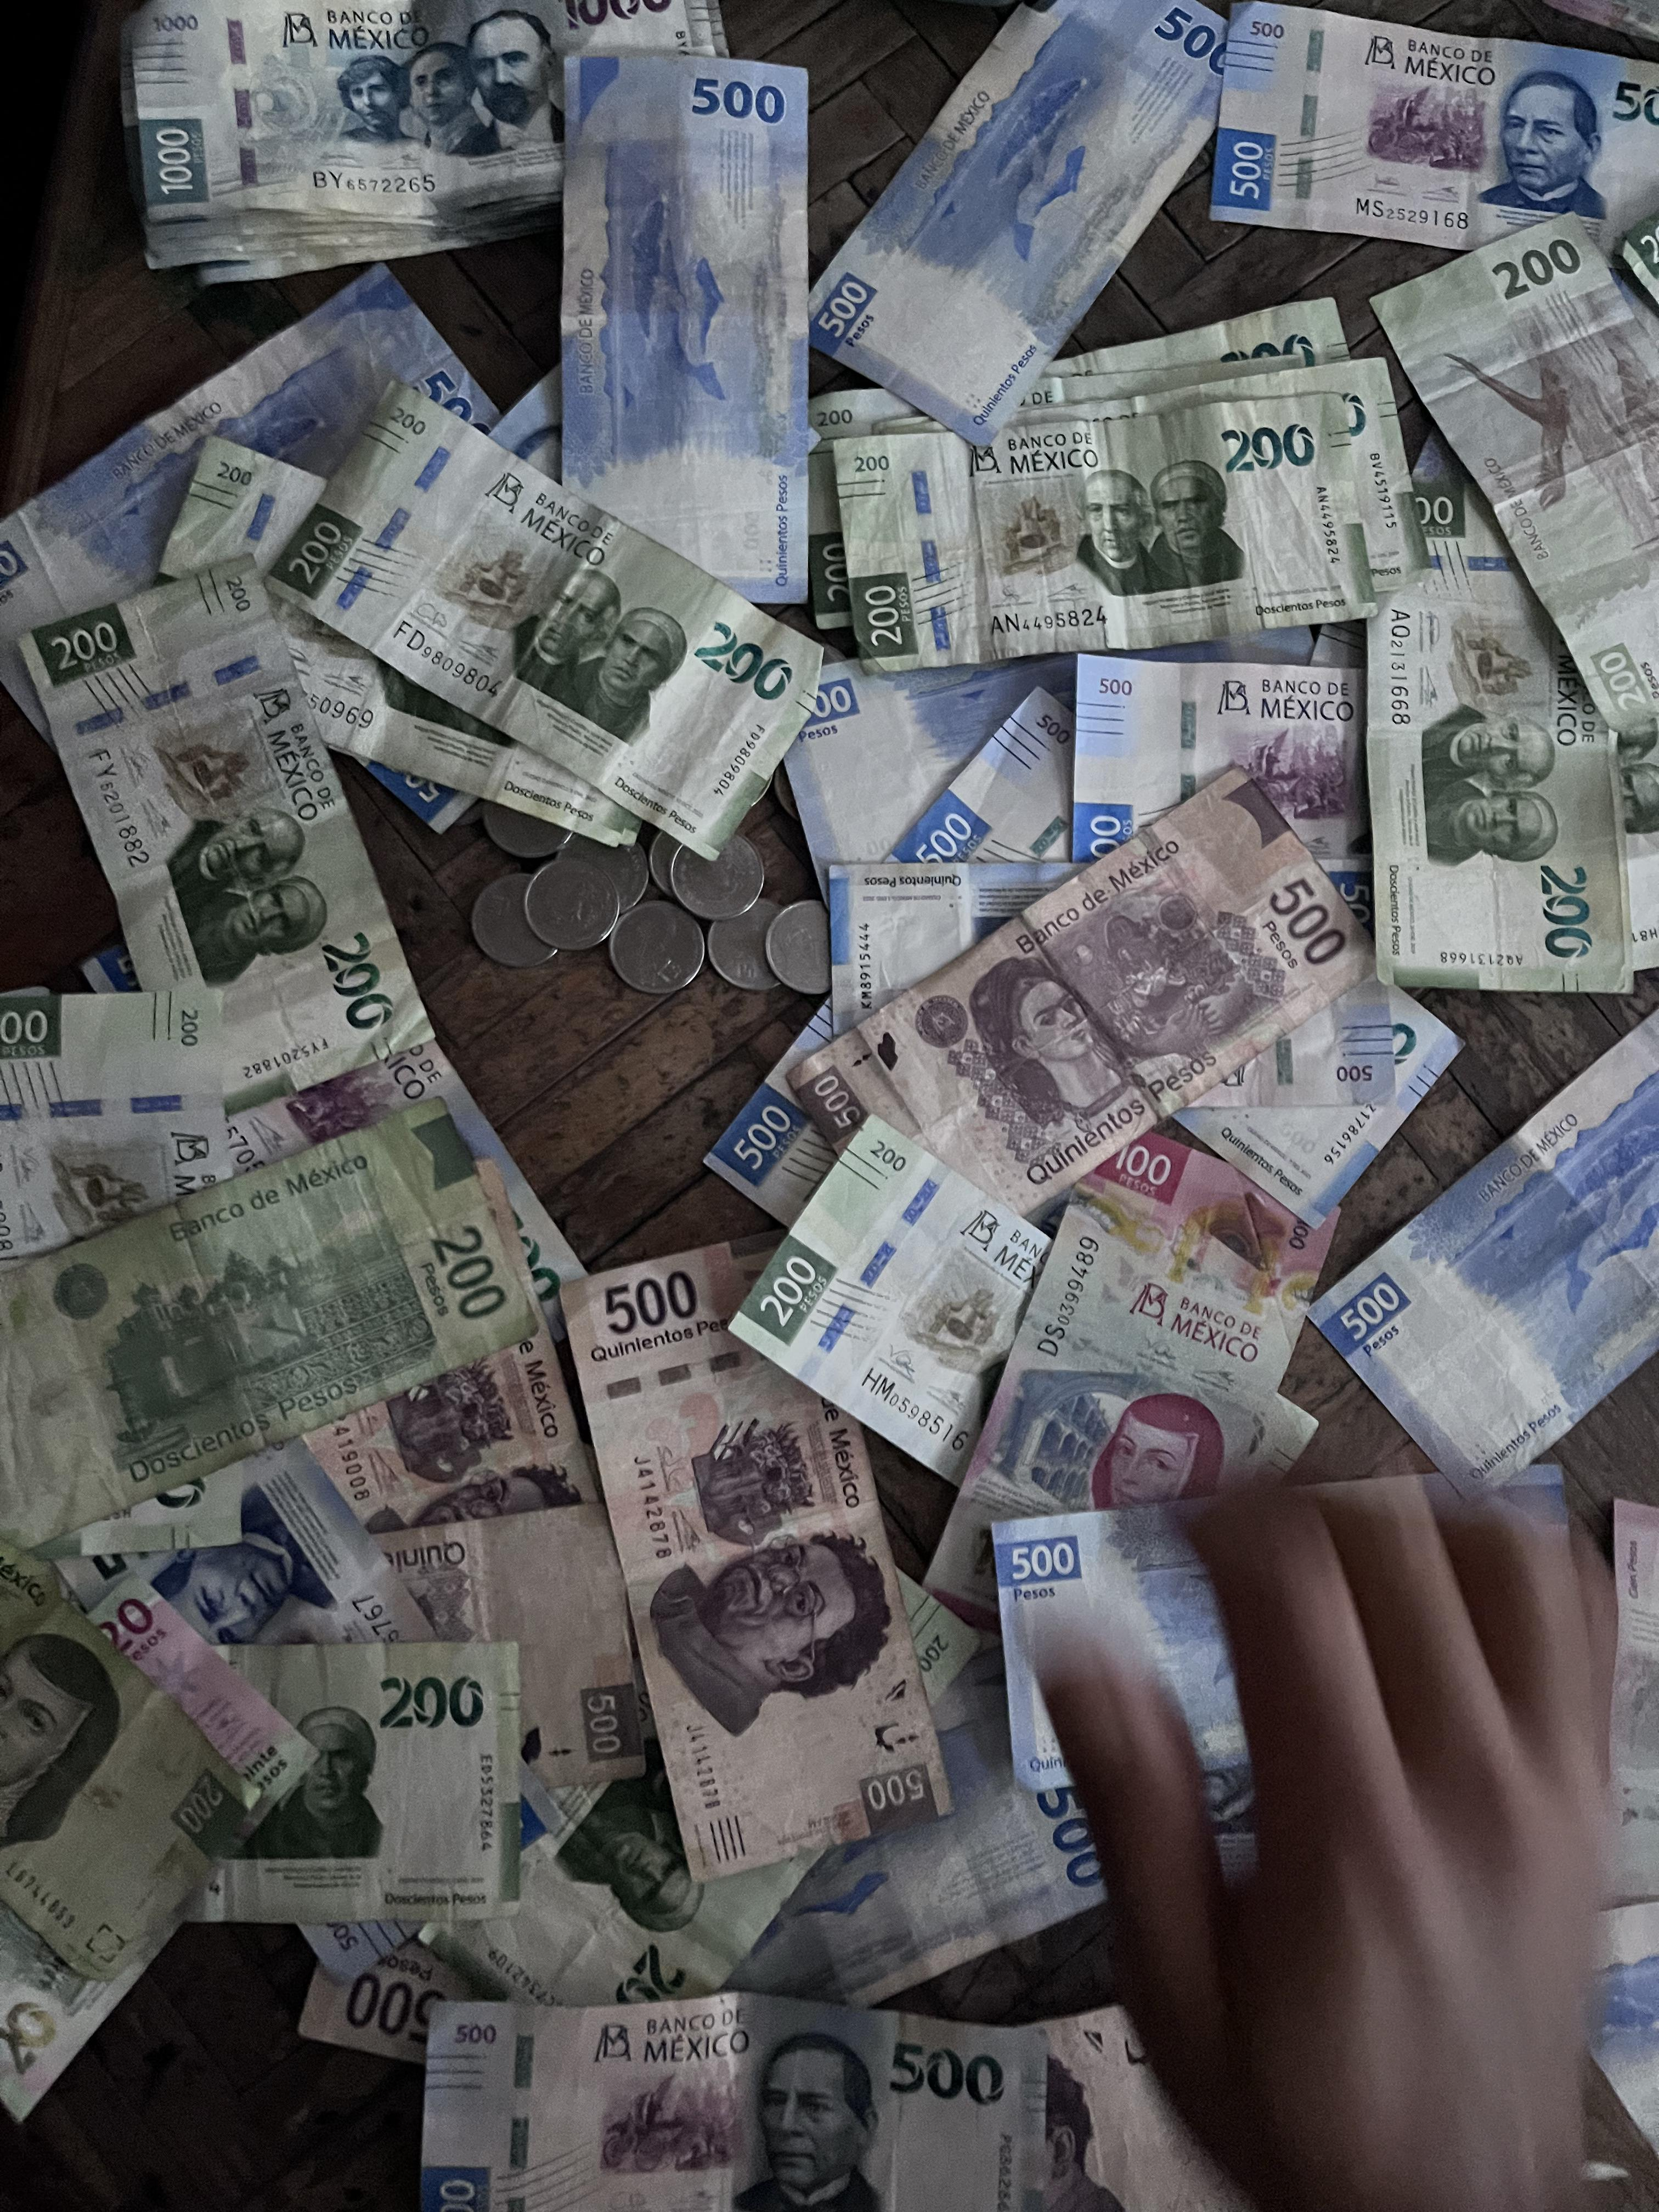1000: (153, 0, 751, 249)
200: (277, 401, 809, 852), (0, 1108, 526, 1550), (10, 592, 451, 1104), (1361, 200, 1659, 747), (1349, 448, 1635, 1007), (795, 383, 1413, 637), (699, 1108, 1070, 1447), (68, 1635, 516, 1914), (0, 1531, 261, 1998), (423, 1735, 763, 2066)
500: (802, 754, 1391, 1221), (532, 1252, 955, 1851)
500 nuevo: (14, 261, 502, 683), (1305, 968, 1659, 1501), (847, 0, 1256, 428), (415, 1989, 1070, 2212), (568, 44, 821, 603), (1195, 7, 1659, 228), (983, 1487, 1335, 1775)
